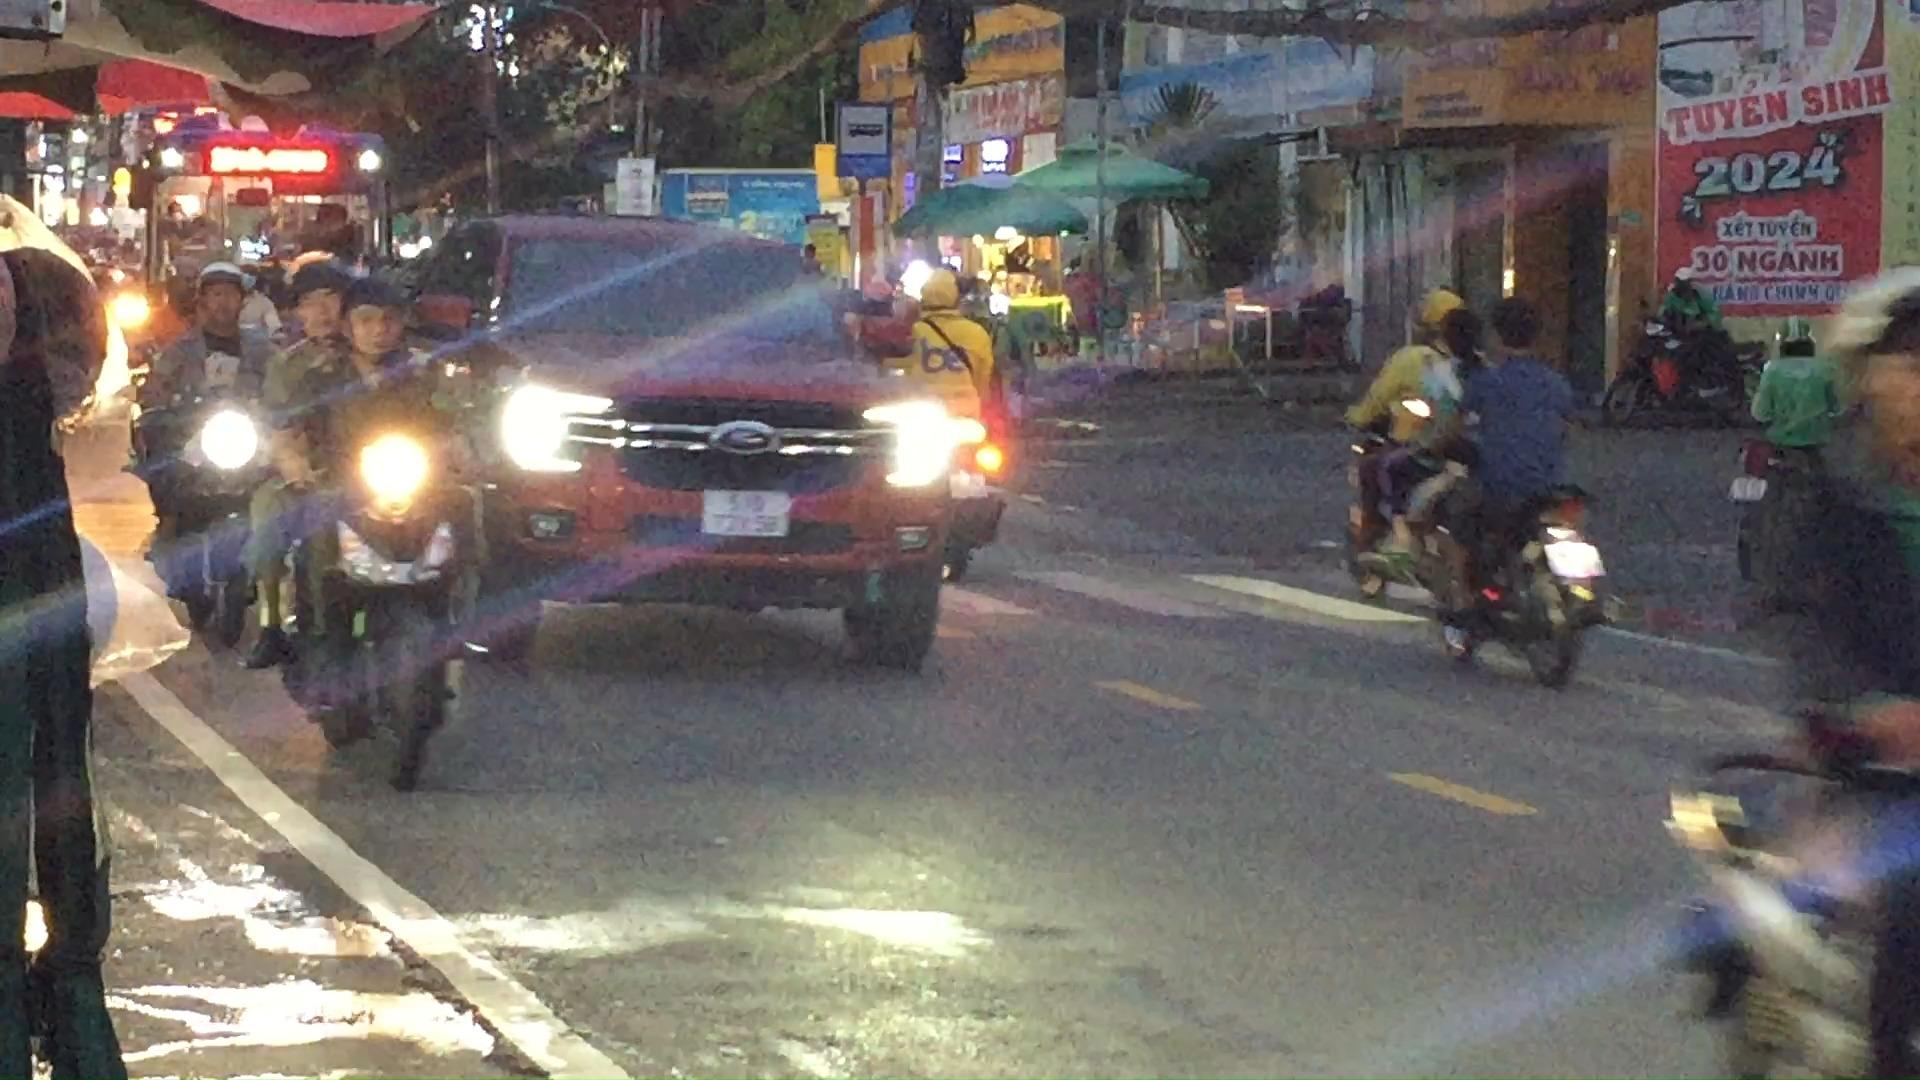bien_so: (699, 487, 793, 540), (1545, 540, 1608, 580)
